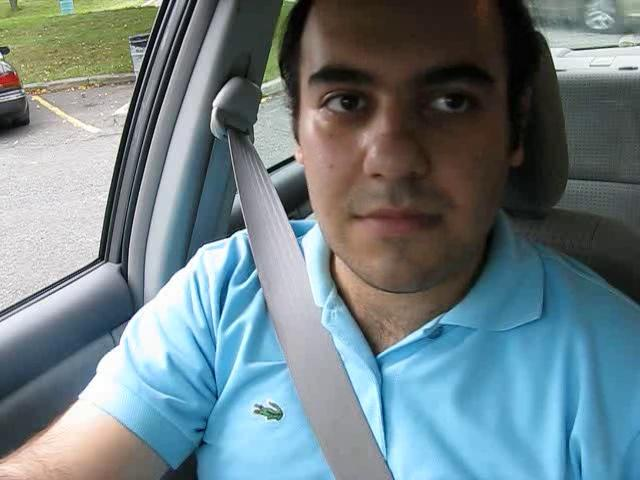no_yawn: (328, 186, 464, 257)
open_eyeL: (305, 72, 394, 134)
open_eyeR: (404, 63, 513, 133)
